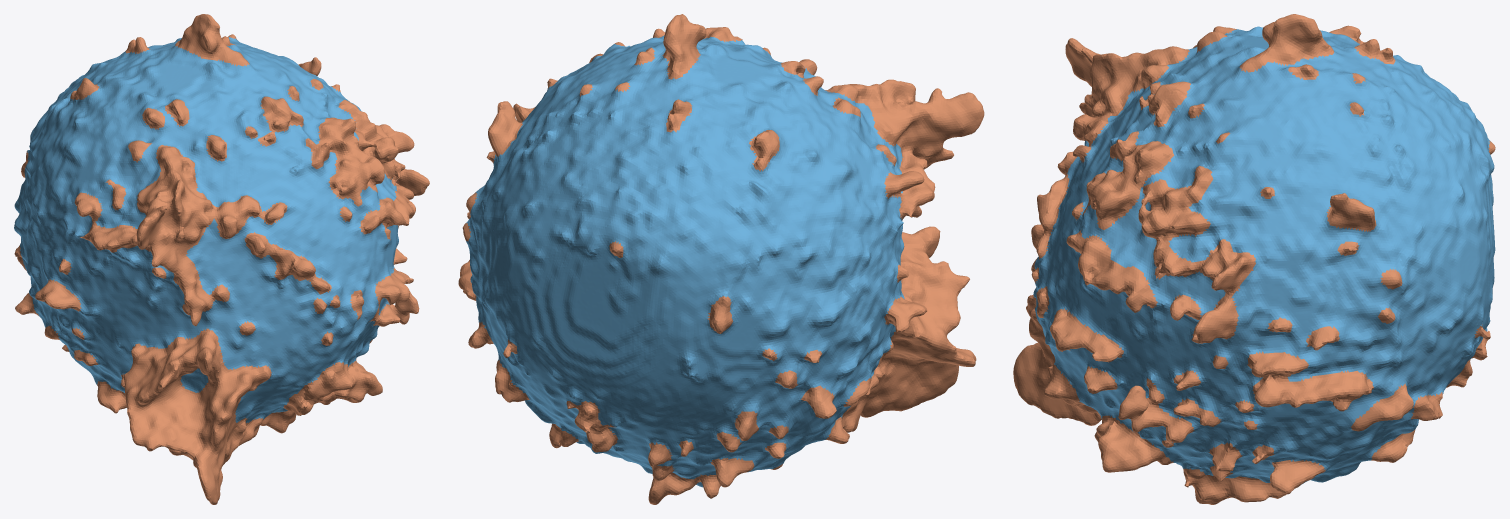
The picture shows the model from 3 angles, left to right: view 1: azimuth 30°, elevation 25°; view 2: azimuth 150°, elevation 25°; view 3: azimuth 270°, elevation 25°; orthographic projection. The views are drawn at different scales.
Bounding box in the file's own units: 146 × 151 × 141.
